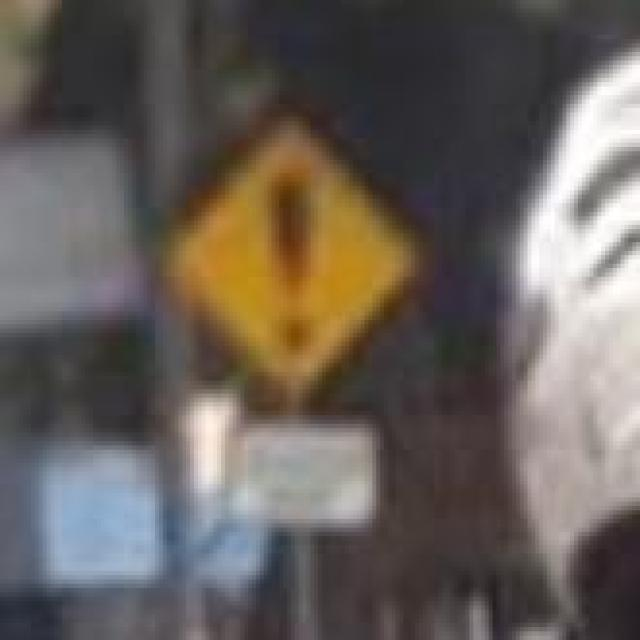traffic sign: (174, 117, 418, 390)
